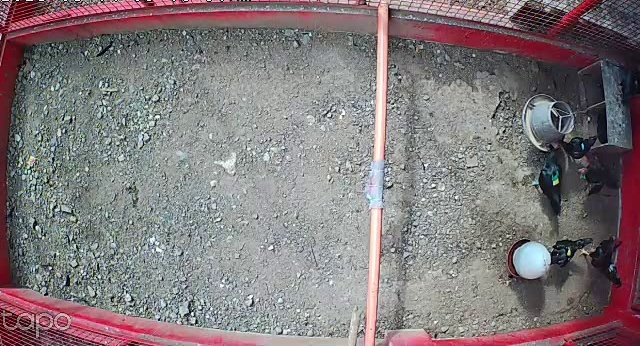Chicken: (530, 137, 571, 219), (547, 233, 593, 266), (576, 158, 621, 191), (556, 135, 598, 163)
Rooster: (575, 233, 625, 290)
Saddle_Color_Blue: (582, 143, 584, 150)
Saddle_Color_Yellow: (566, 246, 572, 257)
Saddle_Color_YellowGreen: (550, 173, 560, 188)
